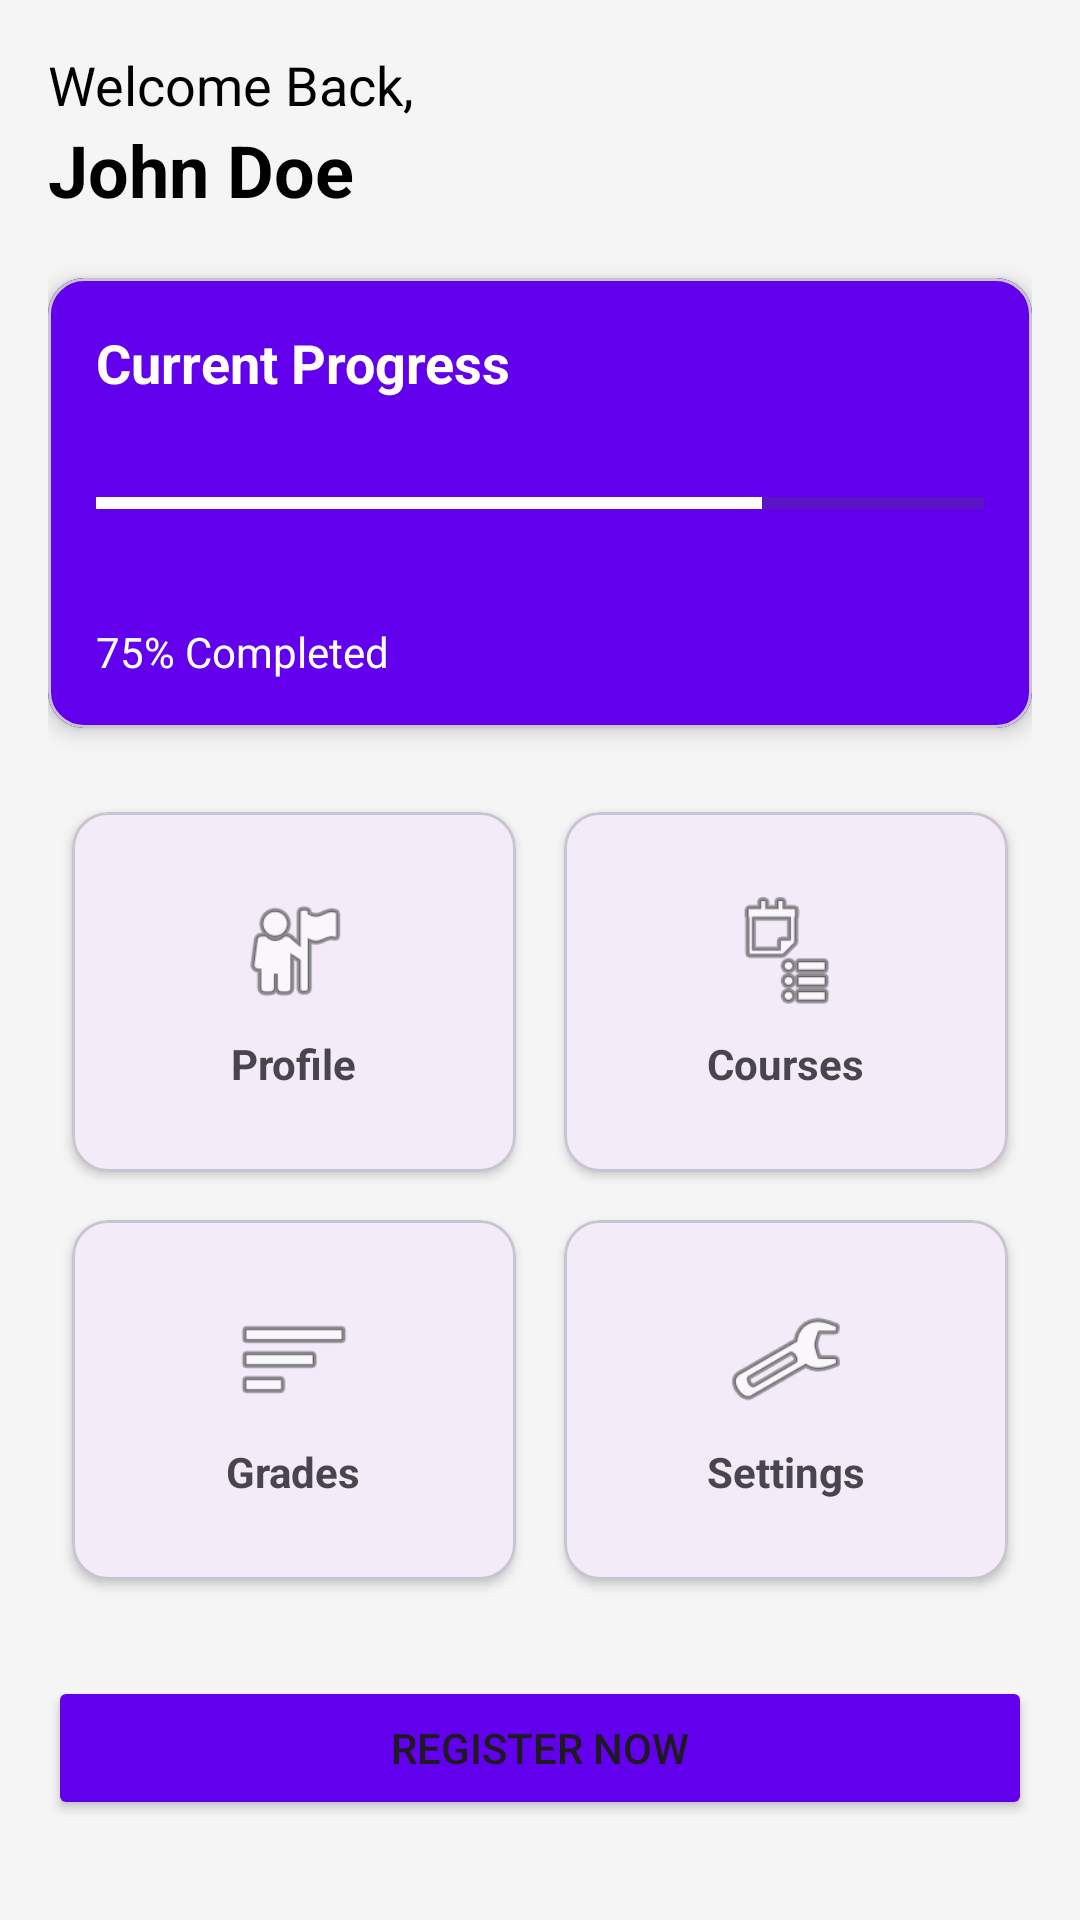

Named icons in this screenshot (1080x1920) and their bounding boxes, BBox(x1, y1, x2, y2):
agenda: BBox(744, 897, 829, 1004)
myplaces: BBox(250, 906, 340, 996)
preferences: BBox(732, 1318, 840, 1400)
sort by size: BBox(242, 1326, 346, 1393)
